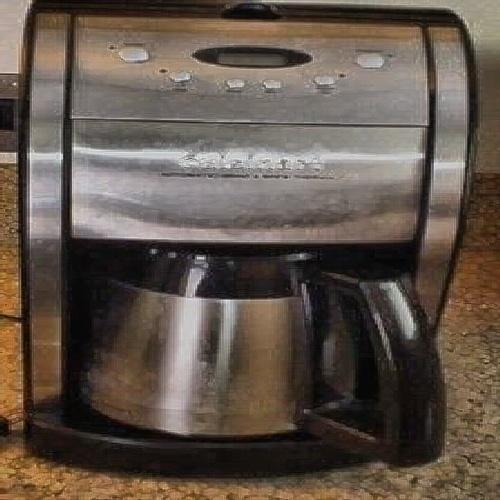coffee_maker: (31, 16, 448, 475)
